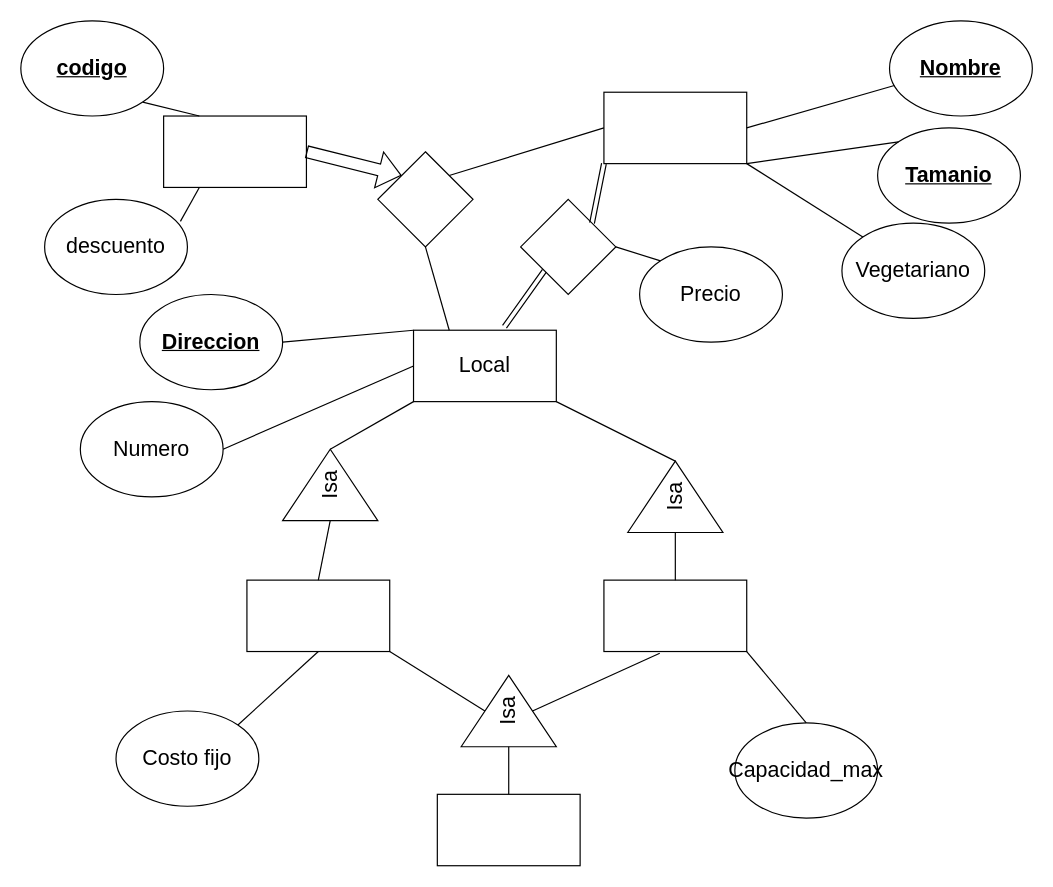
This 1053x887 diagram has some shape labels left out. Here are the shapes that lost their labels. From the top down, the centre of each, then its label:
At [675,127]: "Pizza".
At [234,151]: "Oferta".
At [425,199]: "aux_ofer".
At [567,246]: "Vende".
At [318,615]: "Delivery".
At [675,615]: "Restaurante".
At [508,829]: "Hibrido".
